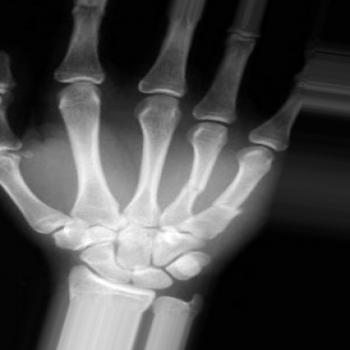Fracture: (209, 195, 248, 217), (176, 176, 211, 196)
